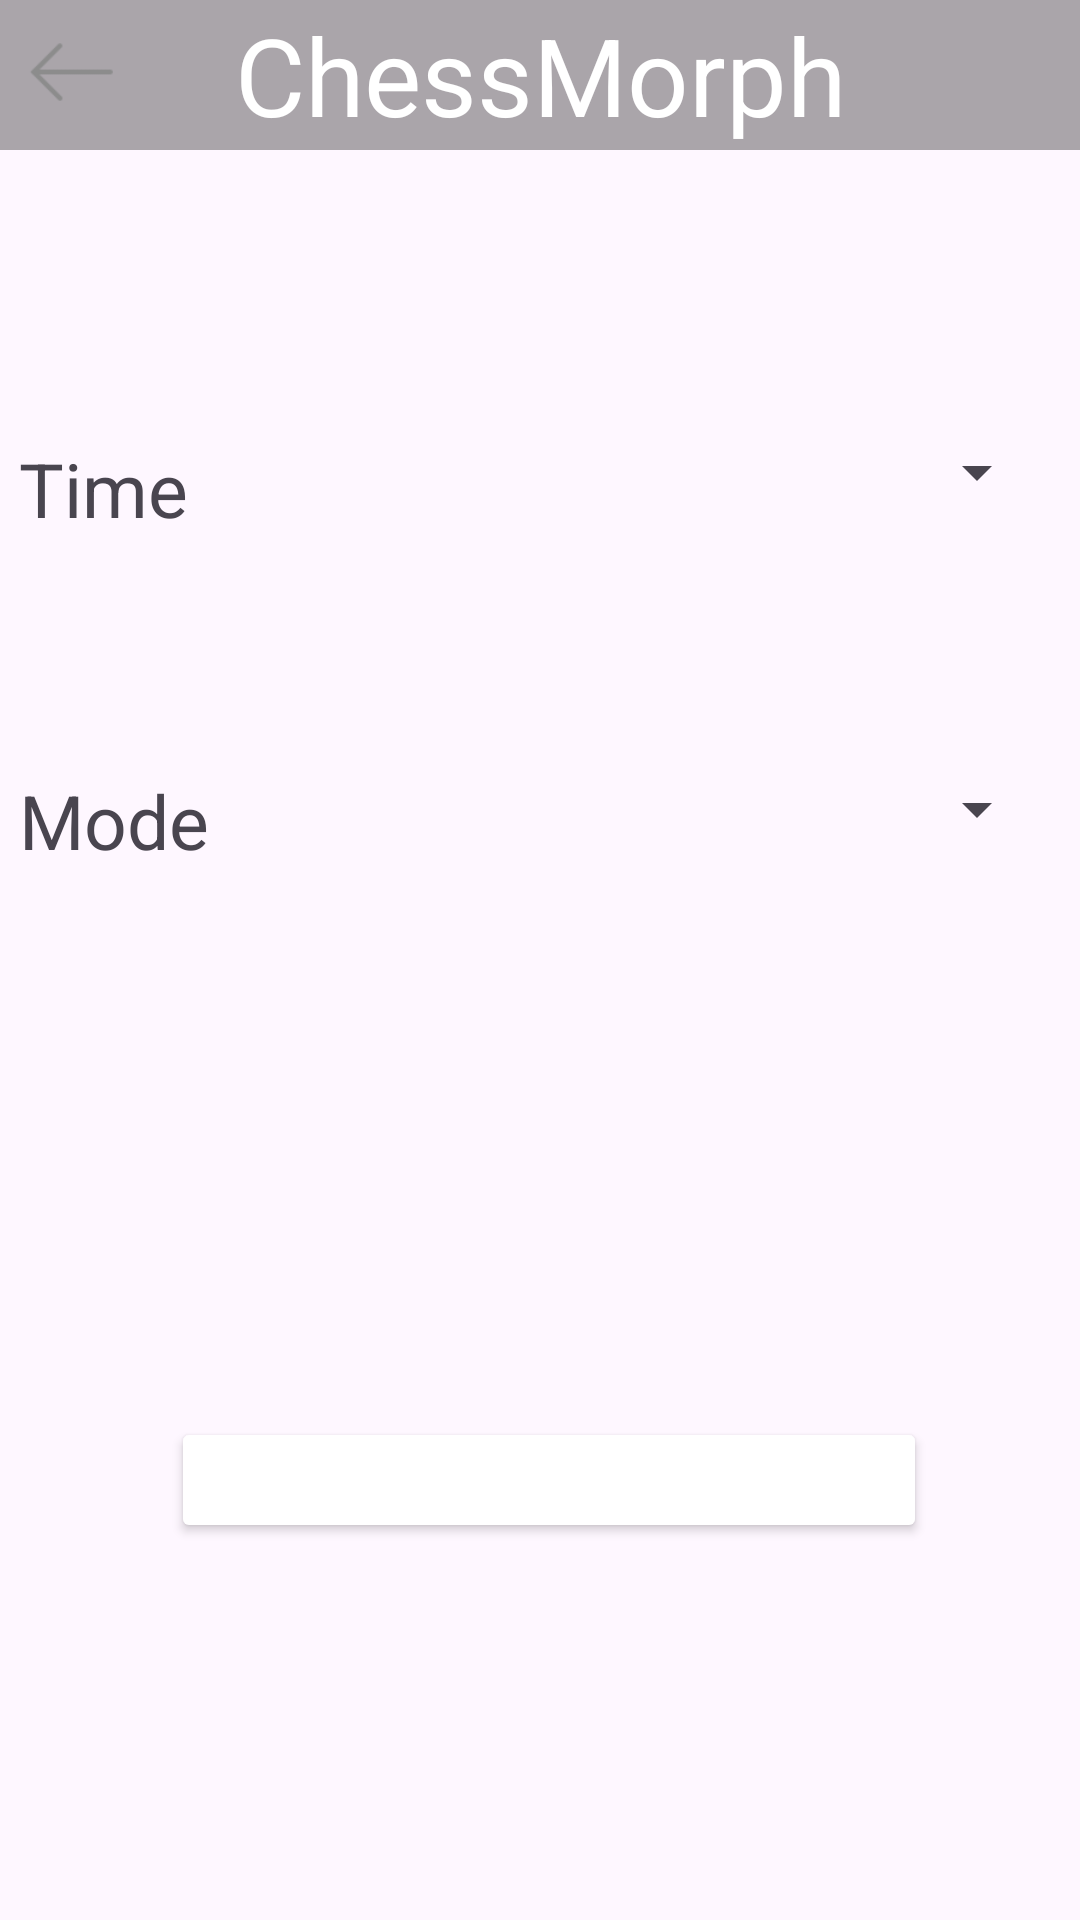

Icon bounding boxes for this 1080px x 1920px phone screenshot, format {"x1": x1, "y1": y1, "x2": x2, "y2": y2}:
backbutton: {"x1": 32, "y1": 44, "x2": 112, "y2": 100}
